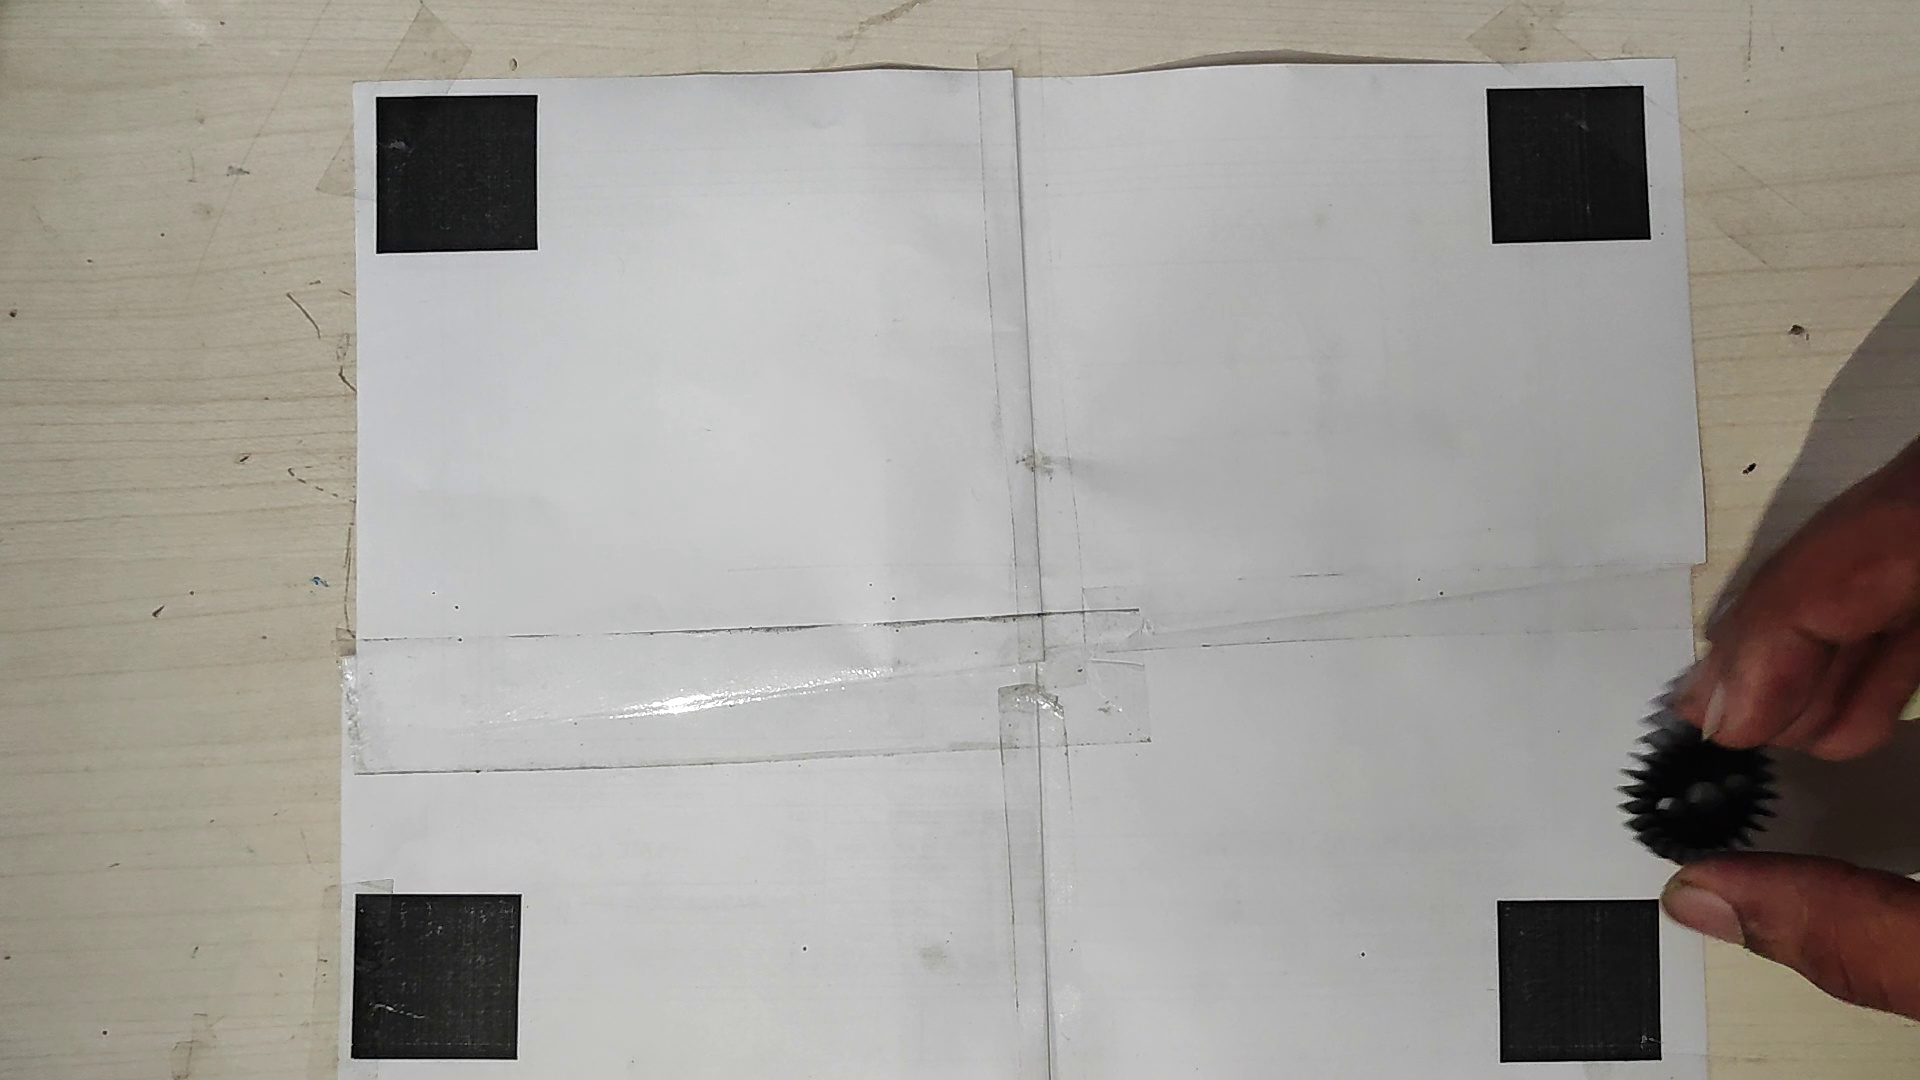Gear: (1626, 719, 1782, 862)
